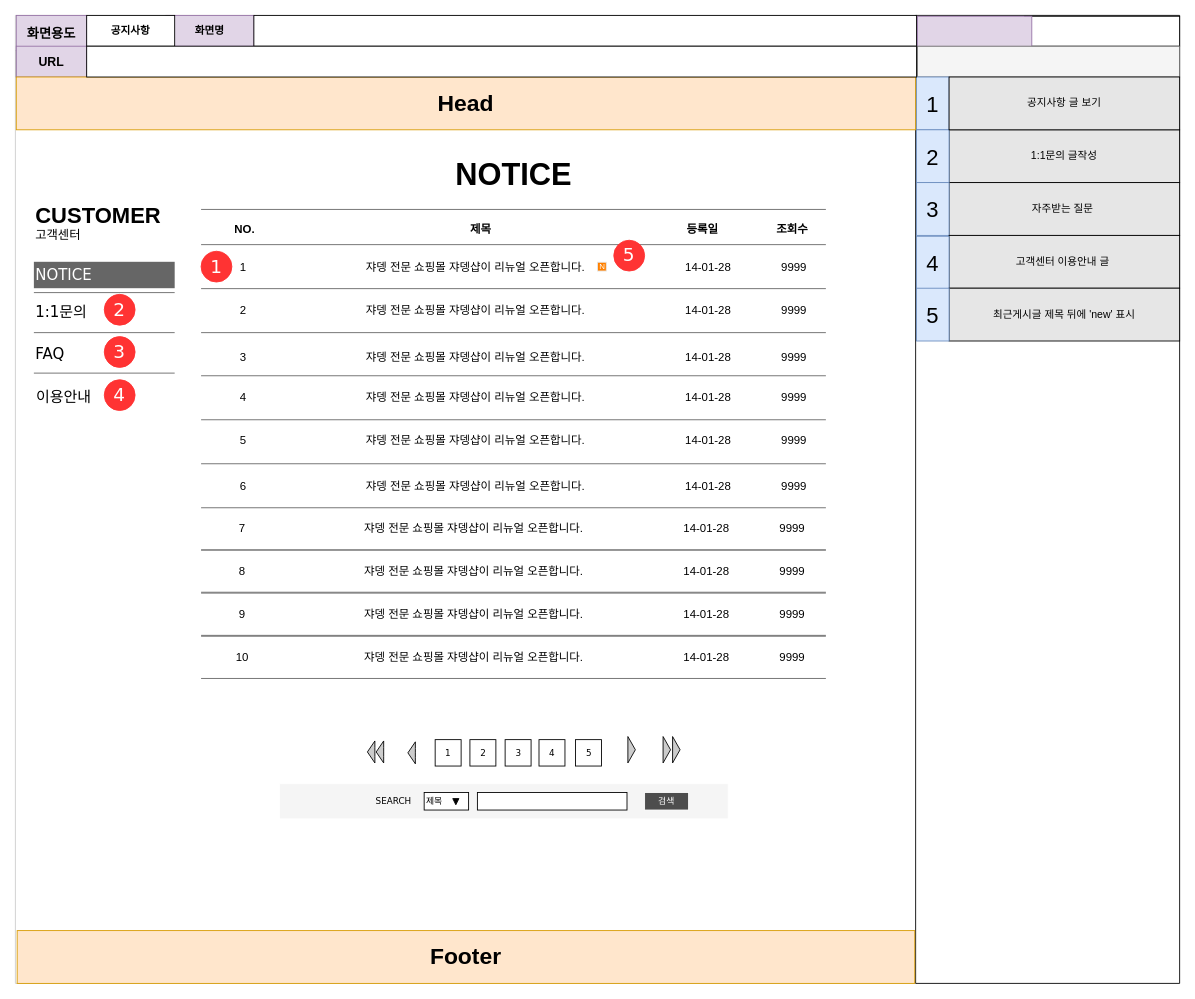
This 1195x999 diagram has some shape labels left out. Here are the shapes that lost their labels. From the top down, the centre of each, then its label:
point (585, 30): 공지사항-리스트
point (974, 31): Project
point (1102, 30): 프로젝트명
point (1048, 61): Description & Function
